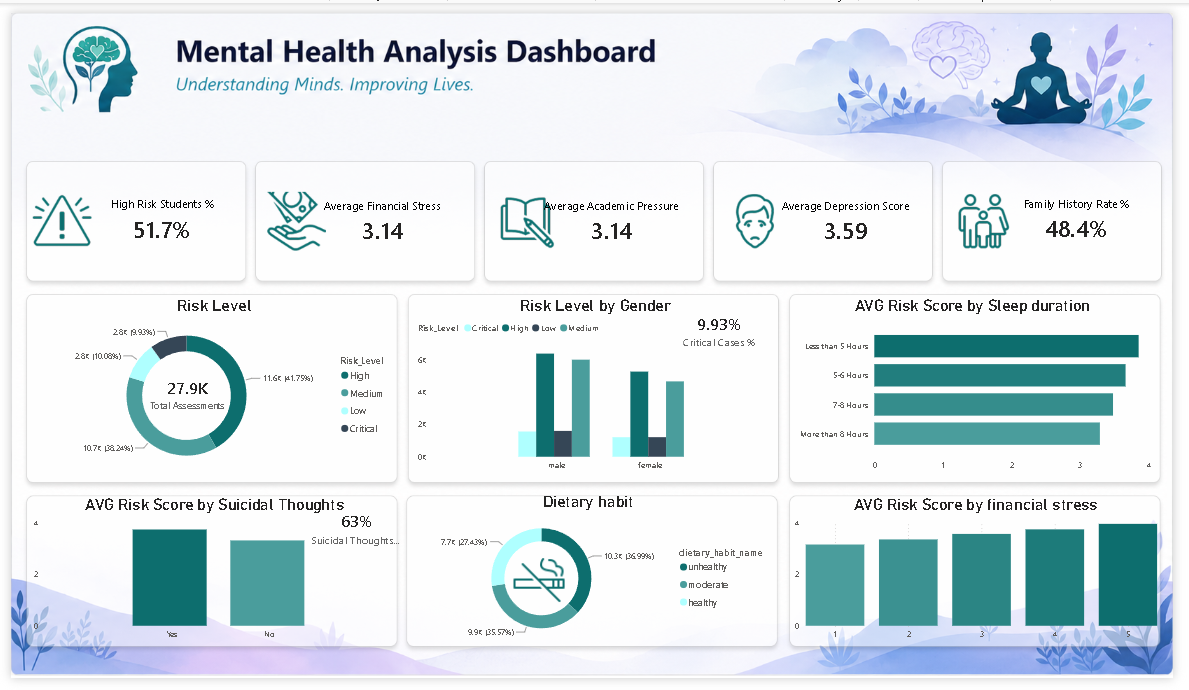

What the dashboard file says about the page in this screenshot:
{"tool":"powerbi","page":{"name":"Page 1","canvas":[1660,950],"ordinal":0},"visuals":[{"type":"clusteredColumnChart","title":"AVG Risk Score by Suicidal Thoughts","fields":{"Y":["Avg(Fact_Assesments.risk_score)"],"Category":["Fact_Assesments.Suicidal Thoughts"]},"box":[27,688.7,528.4,215.8],"z":0},{"type":"clusteredBarChart","title":"AVG Risk Score by Sleep duration","fields":{"Category":["Fact_Assesments.Sleep Duration Category"],"Y":["Avg(Fact_Assesments.risk_score)"]},"box":[1113.9,404.6,518.9,258.6],"z":250},{"type":"clusteredColumnChart","title":"AVG Risk Score by financial stress","fields":{"Y":["Avg(Fact_Assesments.risk_score)"],"Category":["Fact_Assesments.financial_stress"]},"box":[1113.9,688.7,528.4,215.8],"z":500},{"type":"donutChart","title":"Risk Level","fields":{"Y":["Measures Table.Total Assessments"],"Category":["Fact_Assesments.Risk_Level"]},"box":[25.4,404.6,530,258.6],"z":1000},{"type":"clusteredColumnChart","title":"Risk Level by Gender","fields":{"Category":["Fact_Assesments.gender"],"Y":["Measures Table.Total Assessments"],"Series":["Fact_Assesments.Risk_Level"]},"box":[576,404.6,517.3,258.6],"z":2000},{"type":"cardVisual","fields":{"Data":["Measures Table.Total Assessments"]},"box":[150.7,504.6,201.5,79.3],"z":3000},{"type":"cardVisual","fields":{"Data":["Measures Table.Critical Cases %"]},"box":[931.5,404.6,161.9,100],"z":4000},{"type":"cardVisual","fields":{"Data":["Measures Table.Average Depression Score"]},"box":[1067.9,215.8,247.5,163.4],"z":5000},{"type":"cardVisual","fields":{"Data":["Measures Table.Suicidal Thoughts Rate"]},"box":[399.9,688.7,187.2,95.2],"z":6000},{"type":"cardVisual","fields":{"Data":["Measures Table.High Risk Students %"]},"box":[95.2,212.6,241.2,166.6],"z":7000},{"type":"cardVisual","fields":{"Data":["Measures Table.Average Academic Pressure"]},"box":[725.2,215.8,265,163.4],"z":9000},{"type":"cardVisual","fields":{"Data":["Measures Table.Average Financial Stress"]},"box":[399.9,215.8,261.8,163.4],"z":10000},{"type":"cardVisual","fields":{"Data":["Measures Table.Family History Rate %"]},"box":[1401.1,212.6,241.2,163.4],"z":11000},{"type":"donutChart","title":"Dietary habit ","fields":{"Category":["Dim_Dietary habit.dietary_habit_name"],"Y":["Measures Table.Total Assessments"]},"box":[555.4,683.9,537.9,220.6],"z":13000},{"type":"image","box":[682.3,772.8,142.8,73],"z":13001}]}

Visuals, with their boxes in screenshot pixels (x1, y1, x2, y2), scaled from the page's 1660x950 canvas onto the 1189x690 screenshot:
"AVG Risk Score by Suicidal Thoughts" clusteredColumnChart: rect(19, 500, 398, 657)
"AVG Risk Score by Sleep duration" clusteredBarChart: rect(798, 294, 1170, 482)
"AVG Risk Score by financial stress" clusteredColumnChart: rect(798, 500, 1176, 657)
"Risk Level" donutChart: rect(18, 294, 398, 482)
"Risk Level by Gender" clusteredColumnChart: rect(413, 294, 783, 482)
cardVisual - Measures Table.Total Assessments: rect(108, 366, 252, 424)
cardVisual - Measures Table.Critical Cases %: rect(667, 294, 783, 366)
cardVisual - Measures Table.Average Depression Score: rect(765, 157, 942, 275)
cardVisual - Measures Table.Suicidal Thoughts Rate: rect(286, 500, 421, 569)
cardVisual - Measures Table.High Risk Students %: rect(68, 154, 241, 275)
cardVisual - Measures Table.Average Academic Pressure: rect(519, 157, 709, 275)
cardVisual - Measures Table.Average Financial Stress: rect(286, 157, 474, 275)
cardVisual - Measures Table.Family History Rate %: rect(1004, 154, 1176, 273)
"Dietary habit " donutChart: rect(398, 497, 783, 657)
image: rect(489, 561, 591, 614)
